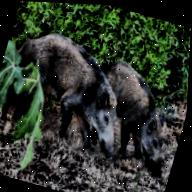boar: (0, 13, 147, 170), (61, 27, 191, 192)
